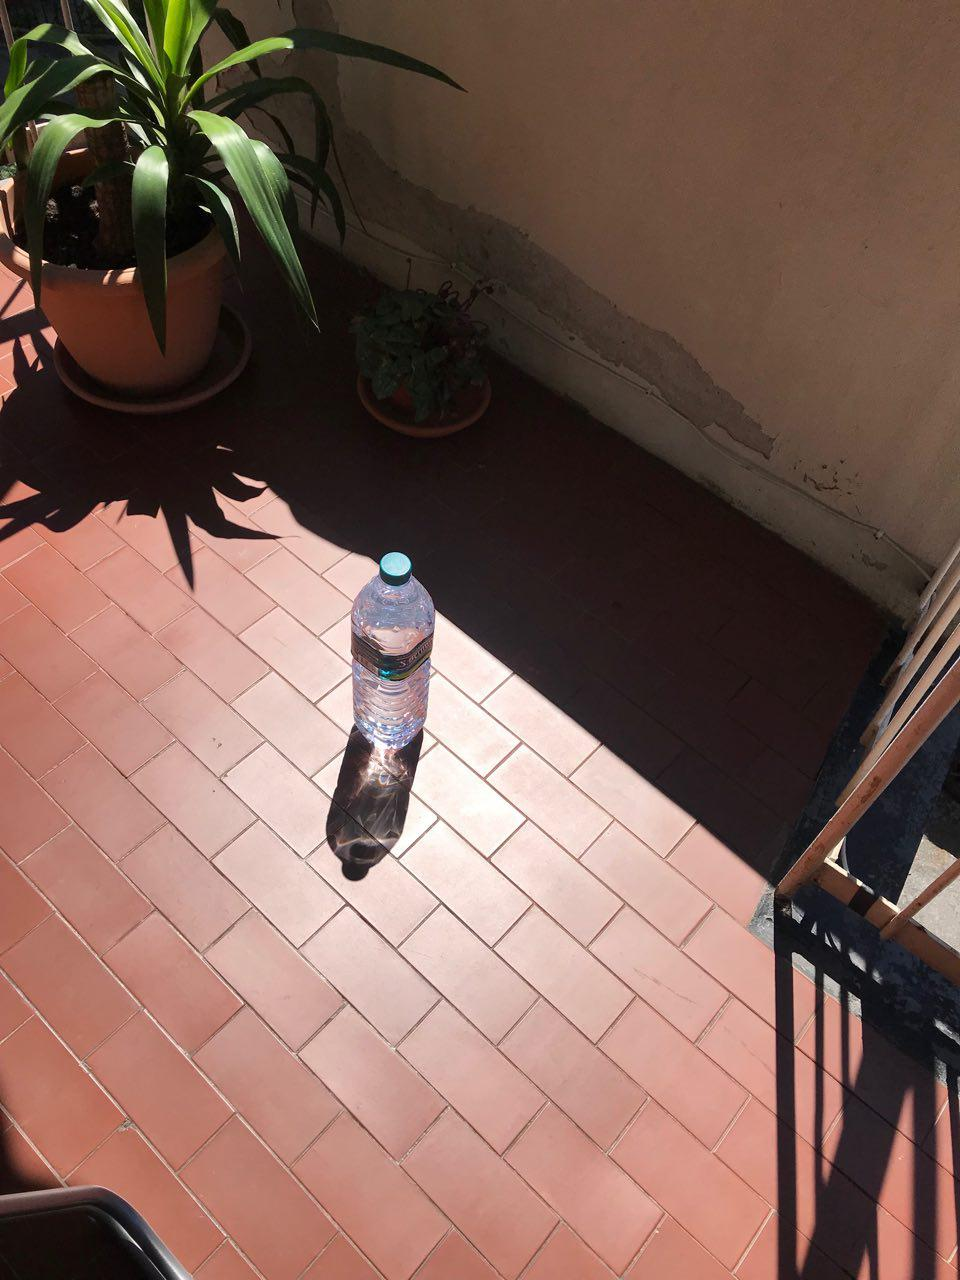san_bernardo: (350, 551, 435, 750)
